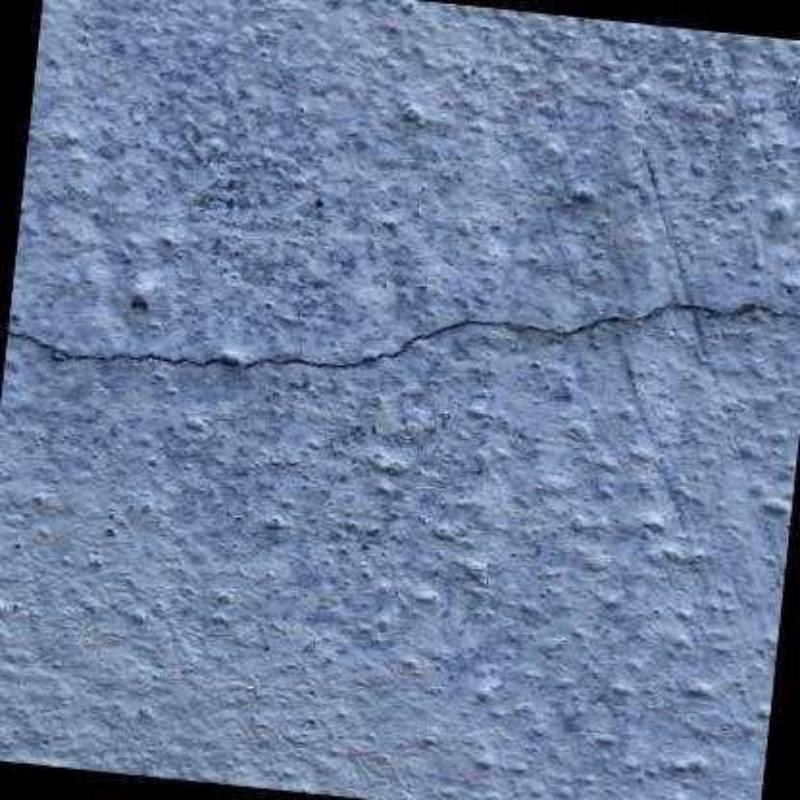crack: (4, 296, 800, 370)
